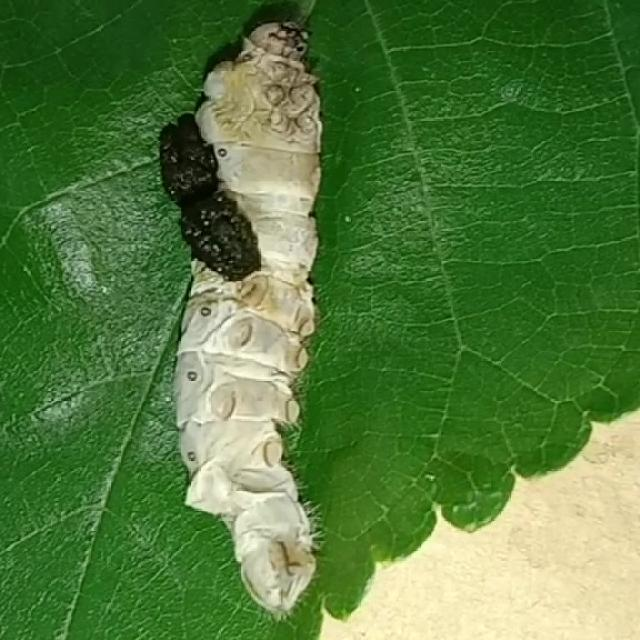Grasserie: (164, 9, 347, 624)
